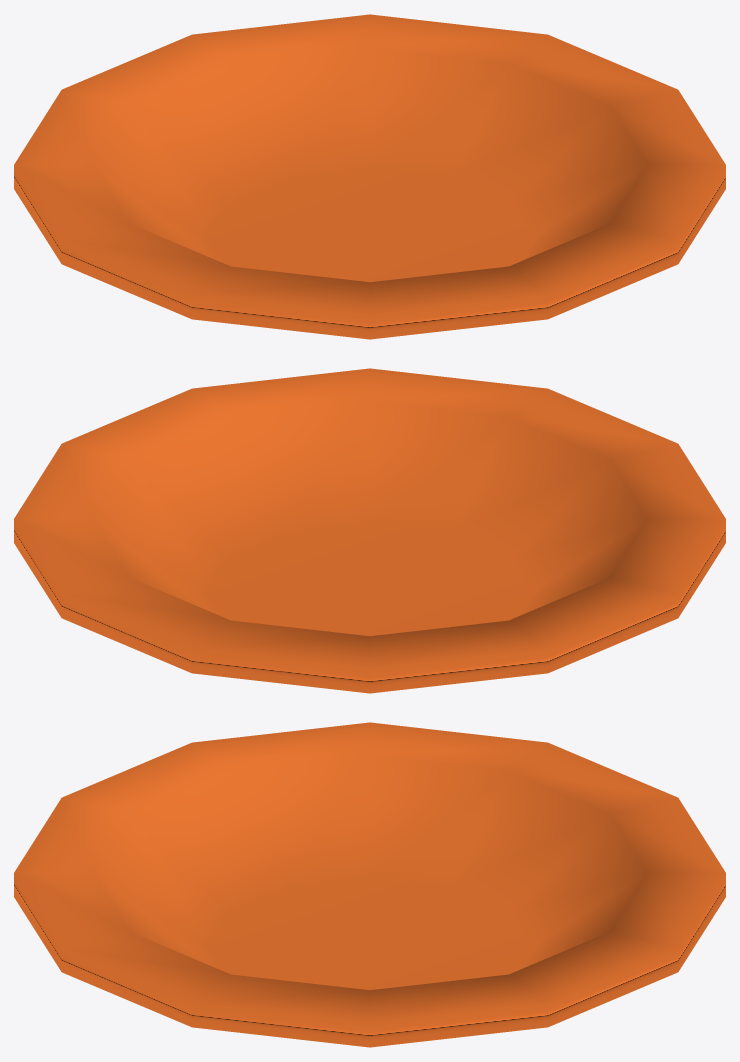
File: plate.fbx
3 views of the same model, one above another, from view 1: azimuth 30°, elevation 25°; view 2: azimuth 150°, elevation 25°; view 3: azimuth 270°, elevation 25° (orthographic).
Parts seen in each view (by area): view 1: Cylinder; view 2: Cylinder; view 3: Cylinder.
Part boxes in pixels (left/top/right/bottom): Cylinder: left=14, top=14, right=725, bottom=339; Cylinder: left=14, top=368, right=725, bottom=693; Cylinder: left=14, top=722, right=725, bottom=1047.
Size of the model in its own units: 30.69 by 4.55 by 30.69.
